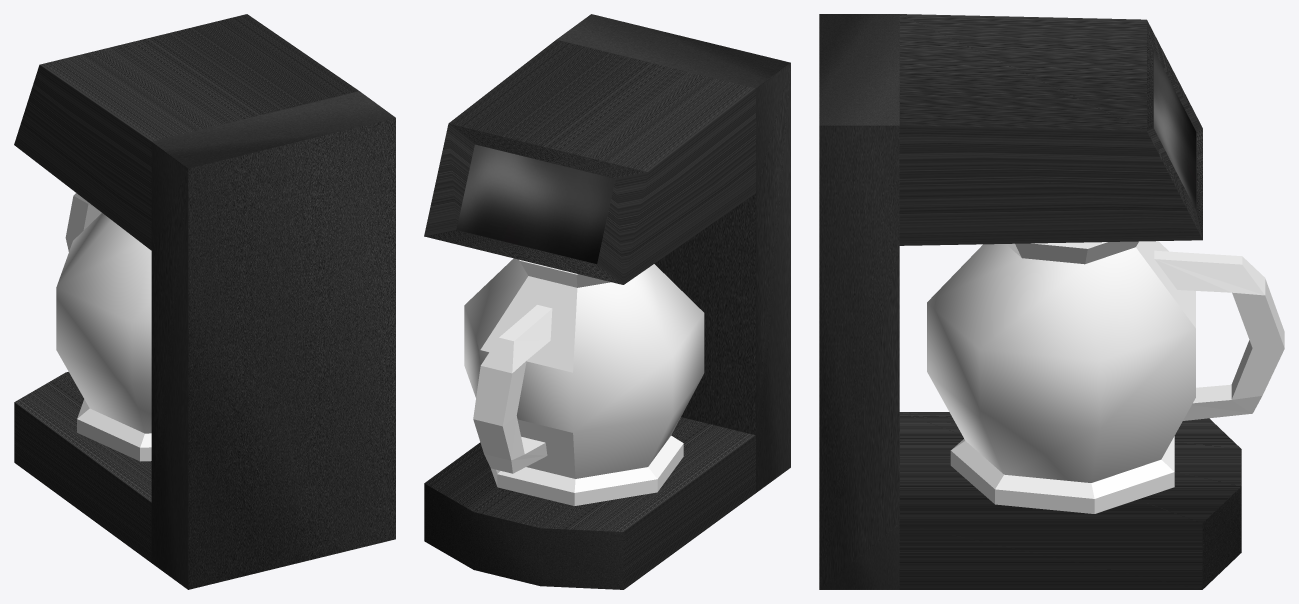
Rendered from coffeeMaker.fbx.
3 views of the same model, side by side, from view 1: azimuth 30°, elevation 25°; view 2: azimuth 150°, elevation 25°; view 3: azimuth 270°, elevation 25° (orthographic). The views are drawn at different scales.
Parts seen in each view (by area): view 1: Box001, Cylinder001; view 2: Box001, Cylinder001; view 3: Box001, Cylinder001.
Boxes of the visible parts, x1,y1,x2,y2 form: Box001: (14, 14, 395, 589); Cylinder001: (56, 193, 151, 461); Box001: (424, 14, 790, 589); Cylinder001: (464, 258, 704, 505); Box001: (819, 14, 1241, 589); Cylinder001: (927, 241, 1284, 513).
Size of the model in its own units: 23.73 by 44.06 by 40.04.
Materials: 3 (2 with a texture image).
